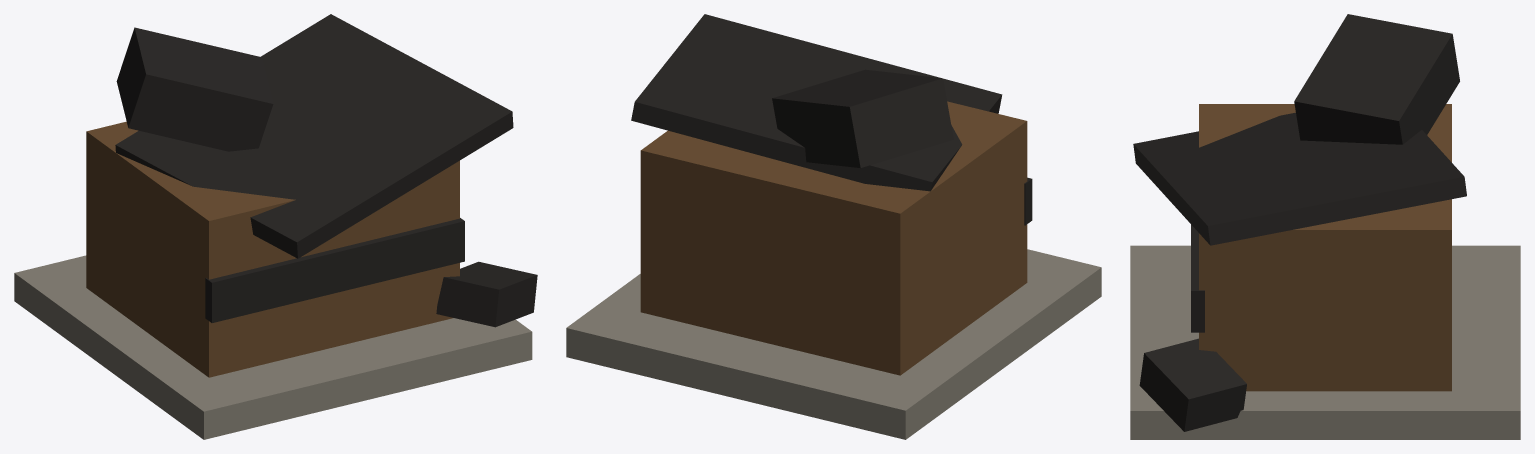
The model's file is RF_Structure_DepotAmmo_Damaged.glb.
The picture shows the model from 3 angles, left to right: view 1: azimuth 30°, elevation 25°; view 2: azimuth 150°, elevation 25°; view 3: azimuth 270°, elevation 25°; orthographic projection. The views are drawn at different scales.
Visible parts, largest first — view 1: RF_Structure_DepotAmmo_Damaged; view 2: RF_Structure_DepotAmmo_Damaged; view 3: RF_Structure_DepotAmmo_Damaged.
Part boxes in pixels (x1=…): RF_Structure_DepotAmmo_Damaged: x1=14, y1=14, x2=537, y2=439; RF_Structure_DepotAmmo_Damaged: x1=566, y1=14, x2=1101, y2=439; RF_Structure_DepotAmmo_Damaged: x1=1130, y1=14, x2=1520, y2=439.
Size of the model in its own units: 3.75 by 2.74 by 3.4.
